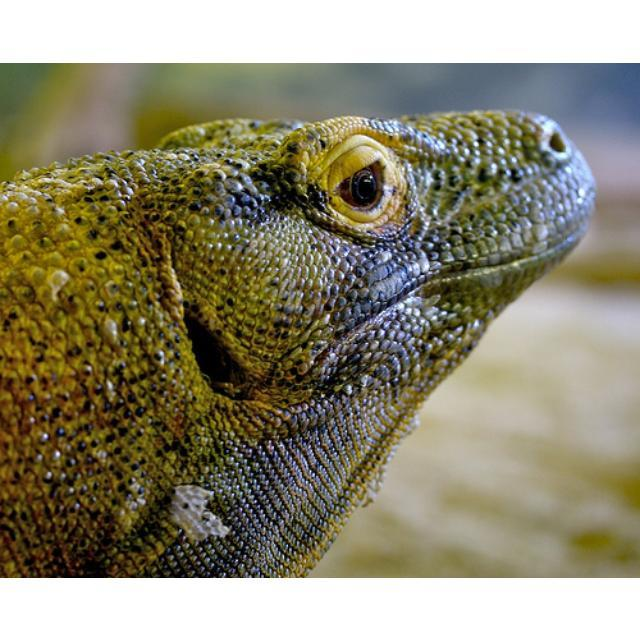KomodoDragon: (1, 105, 596, 574)
